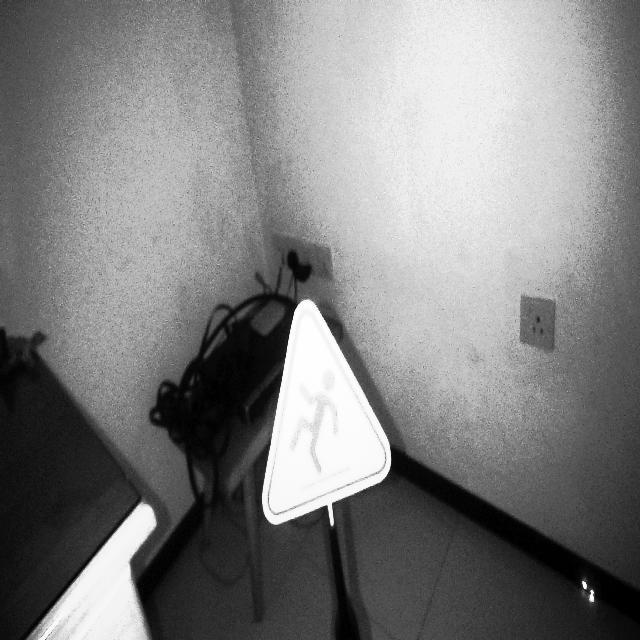Sign: (260, 298, 394, 529)
